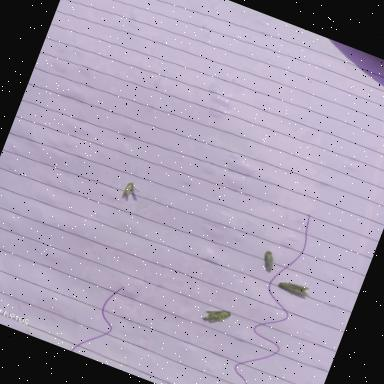pbw: (198, 300, 234, 332), (273, 276, 312, 304), (255, 246, 280, 274), (119, 178, 142, 204)
